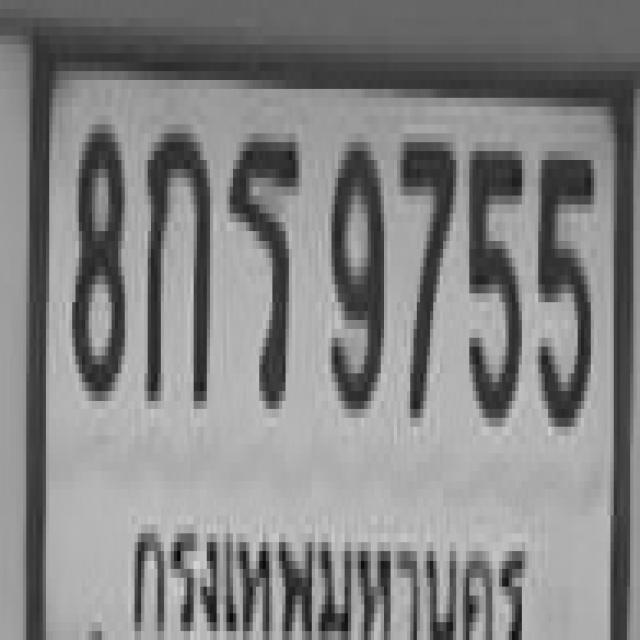10GorGai: (141, 124, 207, 400)
44RorRuea: (226, 124, 298, 400)
5: (535, 142, 591, 418), (466, 142, 519, 418)
7: (397, 133, 453, 409)
8: (69, 116, 121, 391)
9: (328, 133, 381, 409)
Bangkok: (122, 494, 538, 640)
